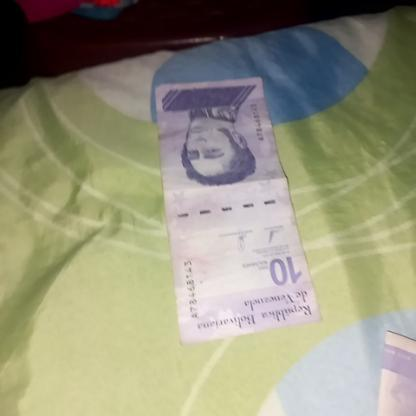ten-front-vef: (152, 77, 320, 344)
